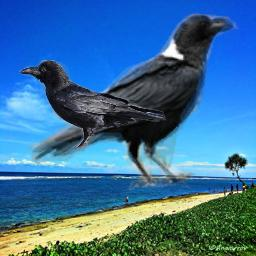Crow: (28, 7, 239, 190), (19, 60, 166, 151)
